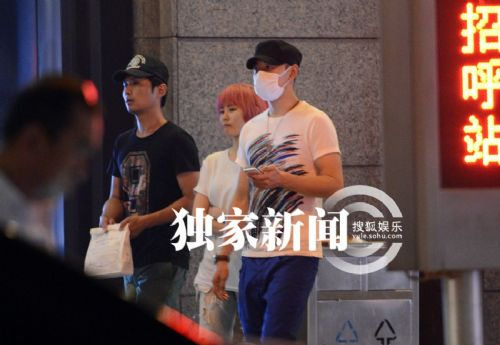face: (122, 73, 152, 112), (219, 101, 247, 134)
face_mask: (252, 54, 282, 102)
